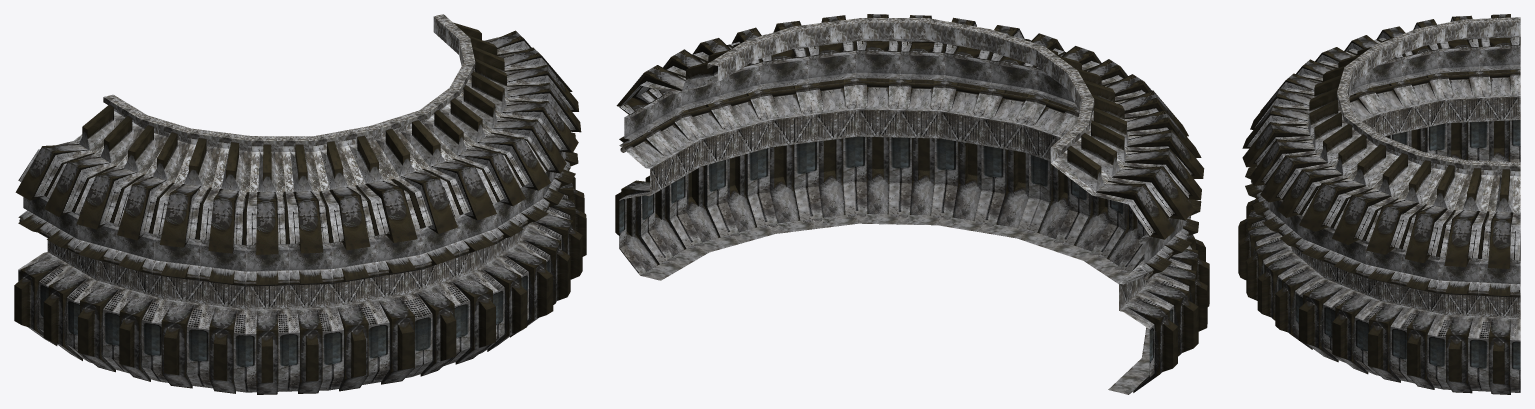
File: stct_WH_Z1_wall_curved.fbx
3 renders of one model, left to right at view 1: azimuth 30°, elevation 25°; view 2: azimuth 150°, elevation 25°; view 3: azimuth 270°, elevation 25°, orthographic. The views are drawn at different scales.
Parts seen in each view (by area): view 1: polySurface131, polySurface130; view 2: polySurface130, polySurface131; view 3: polySurface130, polySurface131.
Boxes of the visible parts, x1=… form: polySurface131: x1=14, y1=94, x2=423, y2=394; polySurface130: x1=369, y1=14, x2=586, y2=376; polySurface130: x1=615, y1=14, x2=1040, y2=280; polySurface131: x1=984, y1=29, x2=1209, y2=394; polySurface130: x1=1238, y1=92, x2=1520, y2=394; polySurface131: x1=1238, y1=14, x2=1520, y2=240.
Bounding box in the file's own units: 3433 × 1361 × 1738.
